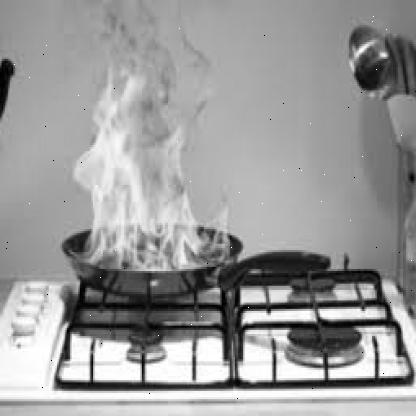fire: (72, 48, 231, 266)
smoke: (62, 3, 209, 145)
